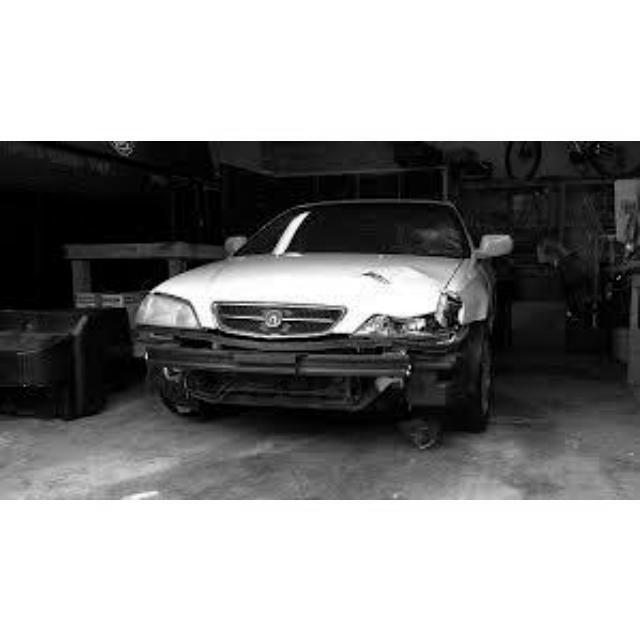Headlight-damage: (356, 295, 467, 348)
bonnet-dent: (291, 231, 466, 305)
